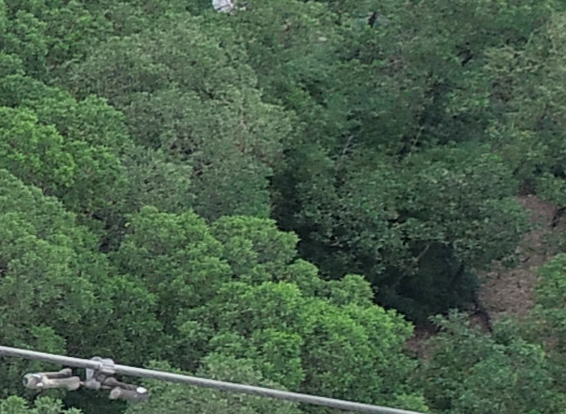damper: (21, 353, 150, 400)
